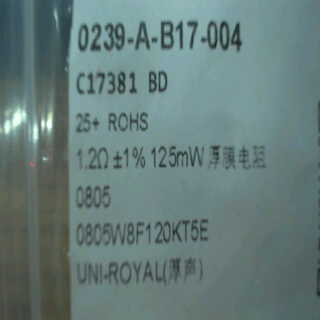1.2R: (72, 146, 114, 208)
